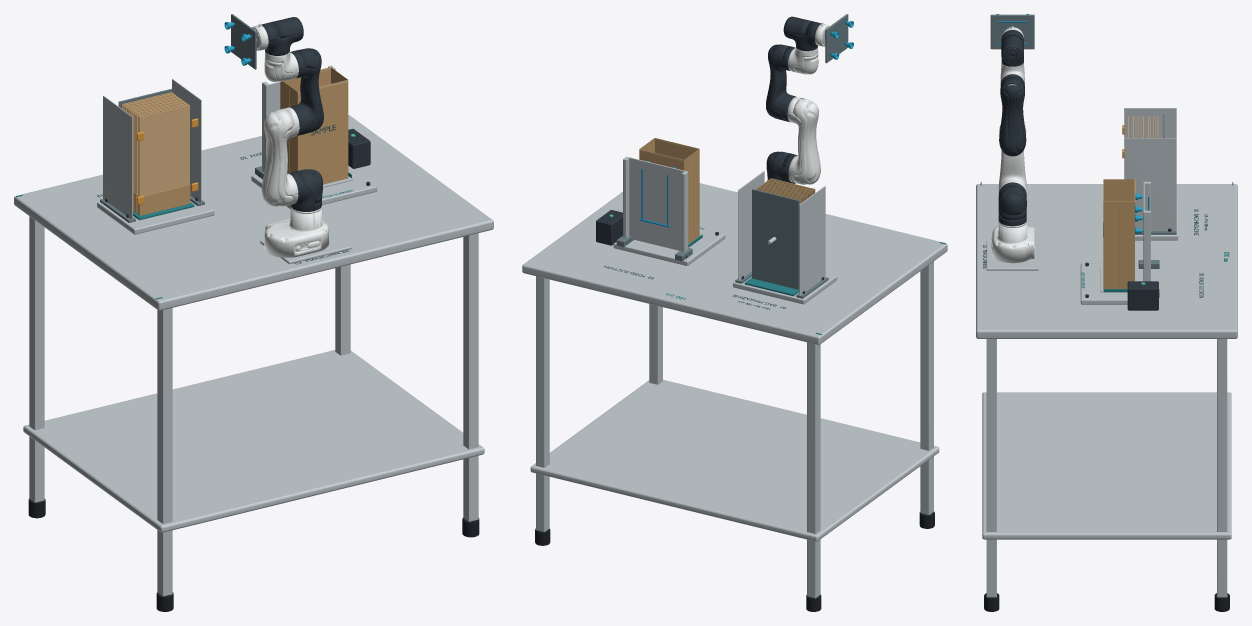
File: me6-station-rig.glb
The picture shows the model from 3 angles, left to right: view 1: azimuth 30°, elevation 25°; view 2: azimuth 150°, elevation 25°; view 3: azimuth 270°, elevation 25°; orthographic projection. The views are drawn at different scales.
Parts seen in each view (by area): view 1: Lower solid shelf, Solid stainless worktop, Square steel leg, Square steel leg.002, Square steel leg.001, Stored flat bag 01, Front paper face, Magazine adjustable side guide, me6_bag_robot / Link2 visual, me6_bag_robot / base_link visual, me6_bag_robot / Link3 visual, Magazine bolted base (+11 smaller); view 2: Lower solid shelf, Solid stainless worktop, Light spring follower, Fixed vacuum plate, Square steel leg.001, Square steel leg.003, Square steel leg, Magazine adjustable side guide, me6_bag_robot / Link2 visual, me6_bag_robot / Link3 visual, Magazine adjustable side guide.001, Fixed station bolted base (+9 smaller); view 3: Lower solid shelf, Solid stainless worktop, Magazine adjustable side guide.001, Square steel leg.002, Square steel leg.003, Paper gusset.001, me6_bag_robot / Link3 visual, Magazine adjustable side guide, me6_bag_robot / base_link visual, Fixed station bolted base, me6_bag_robot / Link1 visual, Lightweight four-cup mounting plate (+6 smaller).
Boxes of the visible parts, left/top/right/bottom form: Lower solid shelf: left=23, top=350, right=484, bottom=532; Solid stainless worktop: left=14, top=115, right=493, bottom=310; Square steel leg: left=157, top=308, right=172, bottom=596; Square steel leg.002: left=463, top=233, right=478, bottom=521; Square steel leg.001: left=29, top=216, right=44, bottom=502; Stored flat bag 01: left=139, top=105, right=189, bottom=196; Front paper face: left=298, top=82, right=348, bottom=184; Magazine adjustable side guide: left=103, top=95, right=132, bottom=222; me6_bag_robot / Link2 visual: left=261, top=107, right=299, bottom=206; me6_bag_robot / base_link visual: left=264, top=206, right=329, bottom=257; me6_bag_robot / Link3 visual: left=290, top=48, right=323, bottom=135; Magazine bolted base: left=97, top=201, right=214, bottom=234; Lower solid shelf: left=530, top=379, right=939, bottom=541; Solid stainless worktop: left=522, top=183, right=947, bottom=344; Light spring follower: left=752, top=189, right=799, bottom=289; Fixed vacuum plate: left=628, top=157, right=686, bottom=250; Square steel leg.001: left=807, top=342, right=820, bottom=598; Square steel leg.003: left=536, top=276, right=549, bottom=531; Square steel leg: left=920, top=261, right=933, bottom=514; Magazine adjustable side guide: left=799, top=186, right=825, bottom=296; me6_bag_robot / Link2 visual: left=787, top=96, right=820, bottom=184; me6_bag_robot / Link3 visual: left=766, top=44, right=795, bottom=122; Magazine adjustable side guide.001: left=738, top=171, right=764, bottom=283; Fixed station bolted base: left=613, top=228, right=725, bottom=265; Lower solid shelf: left=982, top=392, right=1231, bottom=539; Solid stainless worktop: left=976, top=184, right=1237, bottom=338; Magazine adjustable side guide.001: left=1124, top=138, right=1176, bottom=230; Square steel leg.002: left=986, top=339, right=996, bottom=597; Square steel leg.003: left=1217, top=339, right=1227, bottom=597; Paper gusset.001: left=1103, top=201, right=1134, bottom=288; me6_bag_robot / Link3 visual: left=999, top=74, right=1026, bottom=156; Magazine adjustable side guide: left=1124, top=108, right=1176, bottom=138; me6_bag_robot / base_link visual: left=991, top=221, right=1034, bottom=263; Fixed station bolted base: left=1080, top=263, right=1157, bottom=304; me6_bag_robot / Link1 visual: left=998, top=182, right=1026, bottom=226; Lightweight four-cup mounting plate: left=990, top=14, right=1034, bottom=49.
Bounding box in the file's own units: 1 × 1.58 × 0.75.
